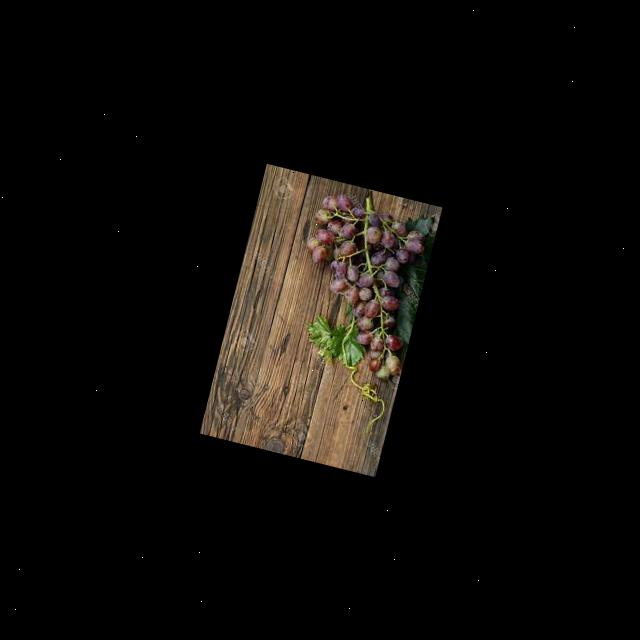grape: (277, 187, 437, 384)
